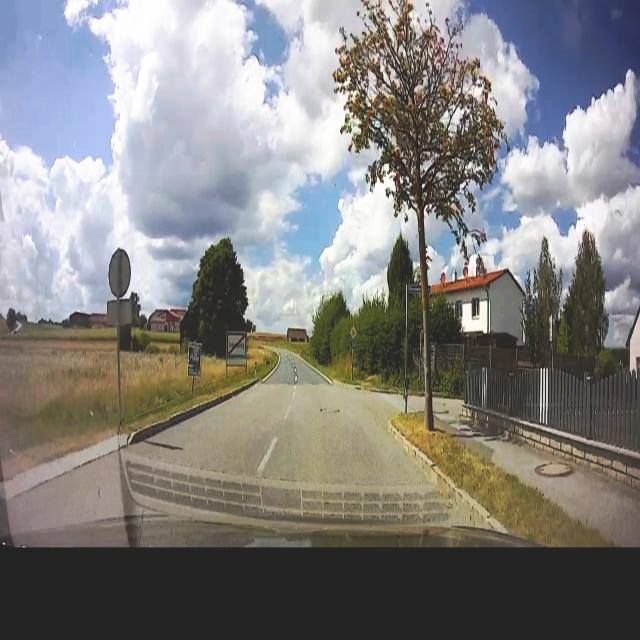Priority road: (348, 324, 358, 342)
